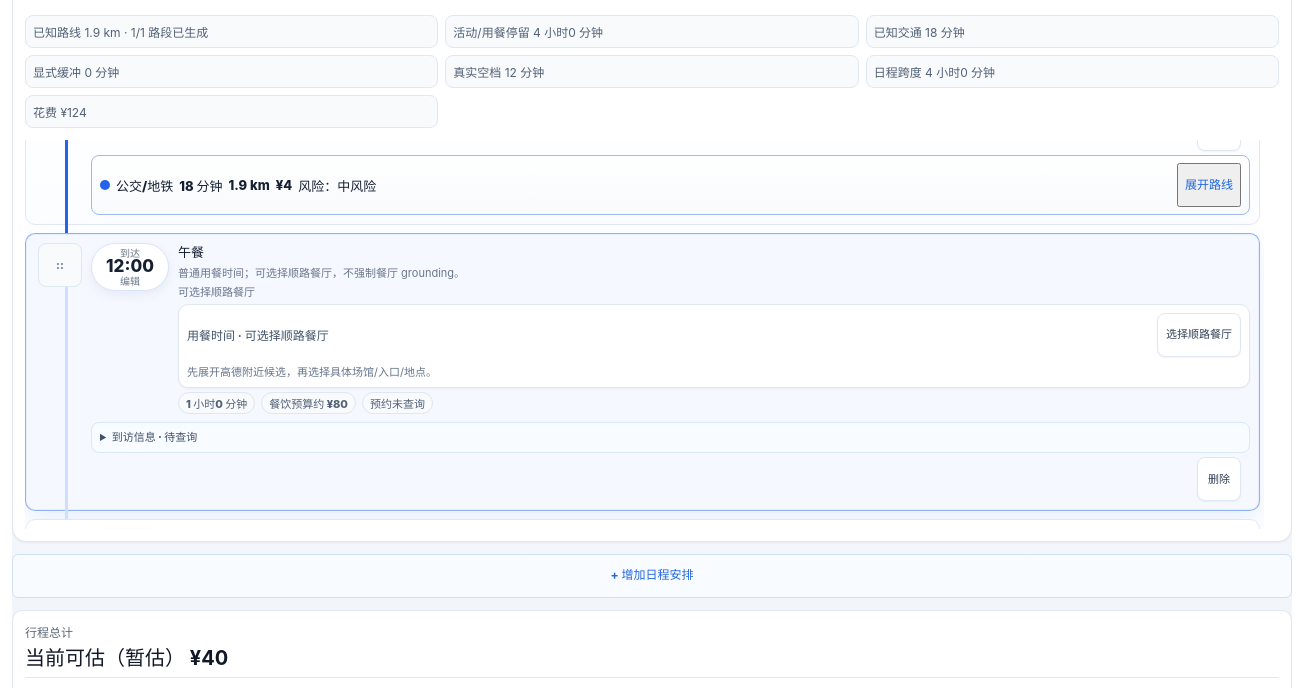
ordinary meal expands nearby dining candidates with meal-specific patch operation
(page scrolled)
Expected: the text "用餐时间 · 可选择顺路餐厅" is shown, [187,326,329,343]
Expected: the text "餐饮预算约 ¥80" is shown, [261,392,356,414]
Click the button "选择顺路餐厅": x=1199, y=335 [1157,313,1241,357]
(page scrolled)
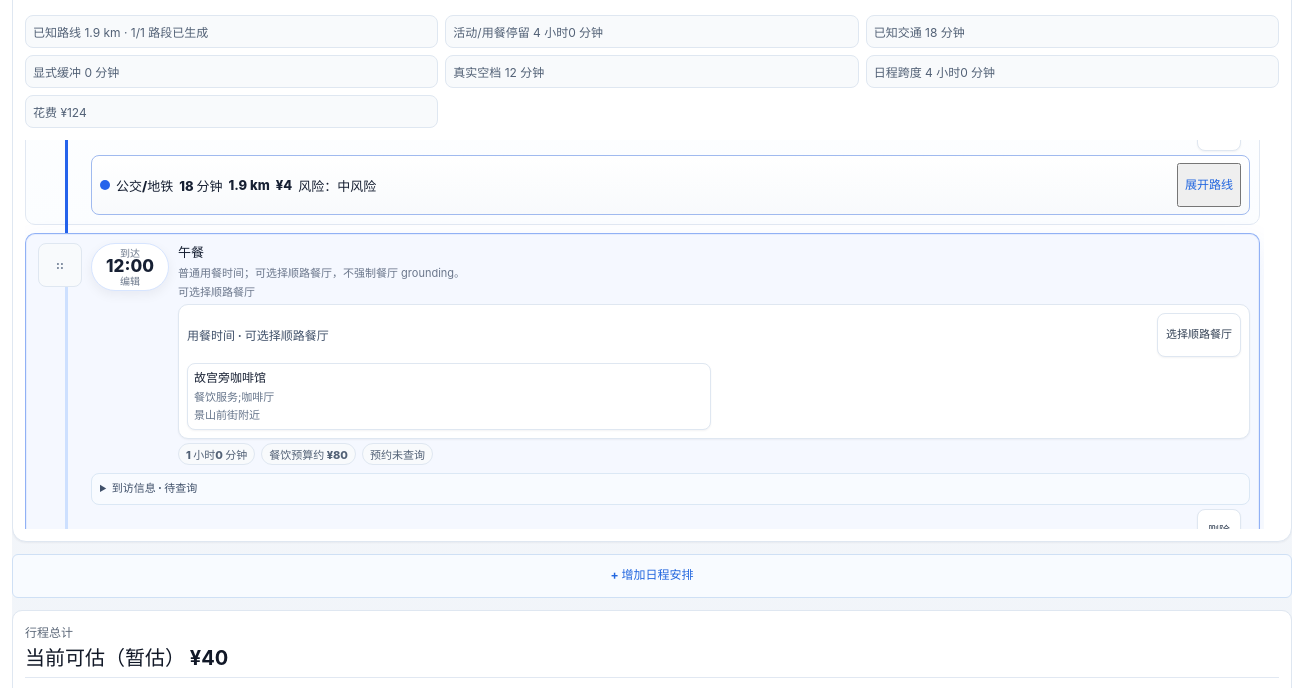
Now the text "故宫旁咖啡馆" is shown, box [194,370,266,385]
